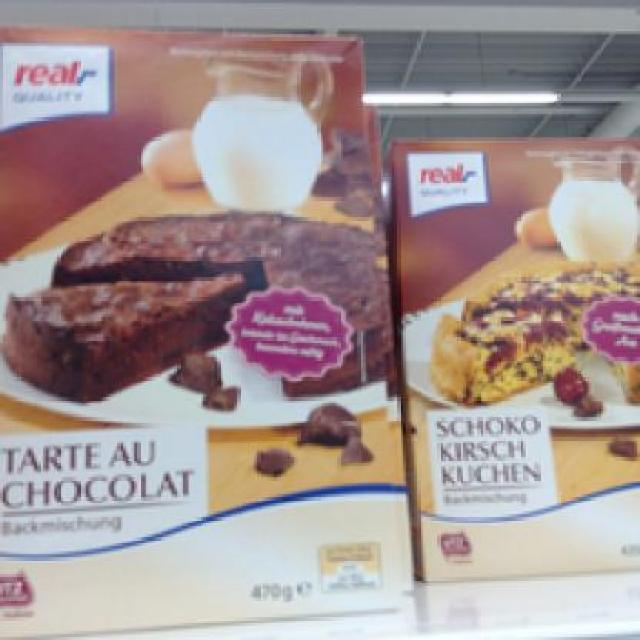Cake: (0, 27, 415, 629), (383, 125, 637, 586)
